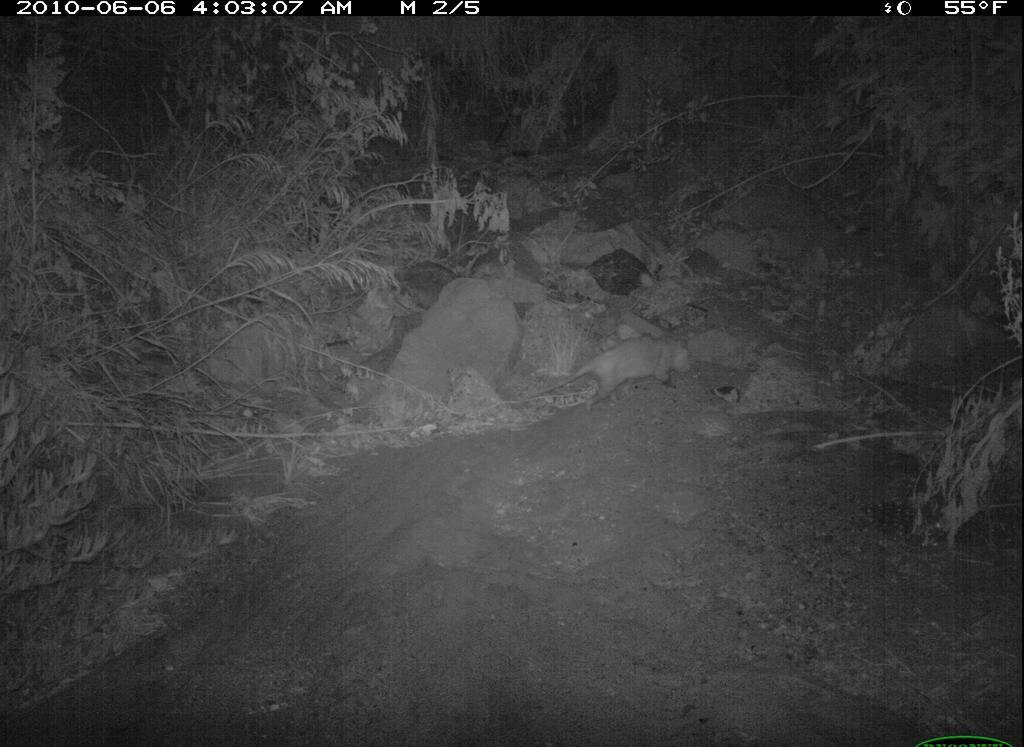opossum: (530, 326, 702, 424)
